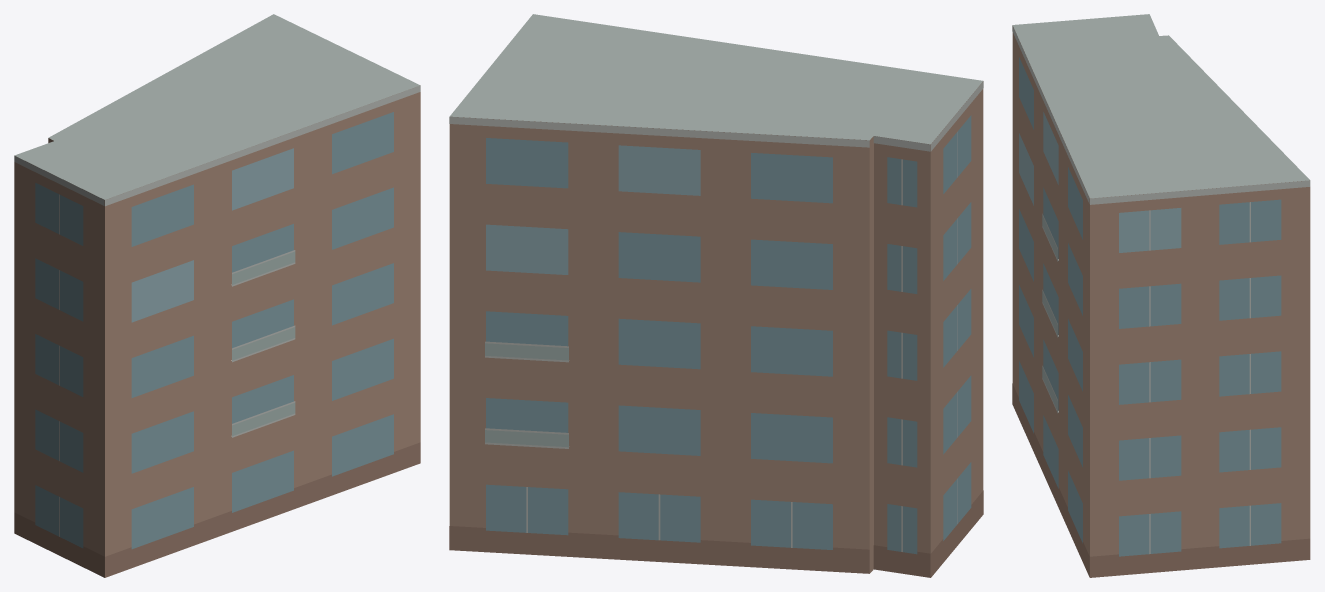
The model's file is survey-upis-32882838.glb.
The picture shows the model from 3 angles, left to right: view 1: azimuth 30°, elevation 25°; view 2: azimuth 150°, elevation 25°; view 3: azimuth 270°, elevation 25°; orthographic projection. The views are drawn at different scales.
Parts seen in each view (by area): view 1: survey-upis-32882838.tmp; view 2: survey-upis-32882838.tmp; view 3: survey-upis-32882838.tmp.
Boxes of the visible parts, x1,y1,x2,y2 form: survey-upis-32882838.tmp: (14, 14, 420, 577); survey-upis-32882838.tmp: (449, 14, 983, 577); survey-upis-32882838.tmp: (1012, 14, 1310, 577).
Bounding box in the file's own units: 15.03 × 14.4 × 10.26.
